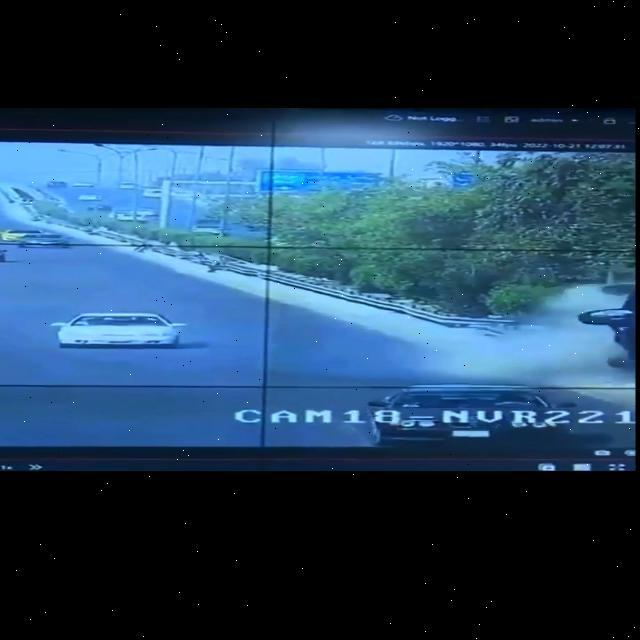accident: (500, 248, 640, 396)
non_accident: (0, 216, 73, 251)
